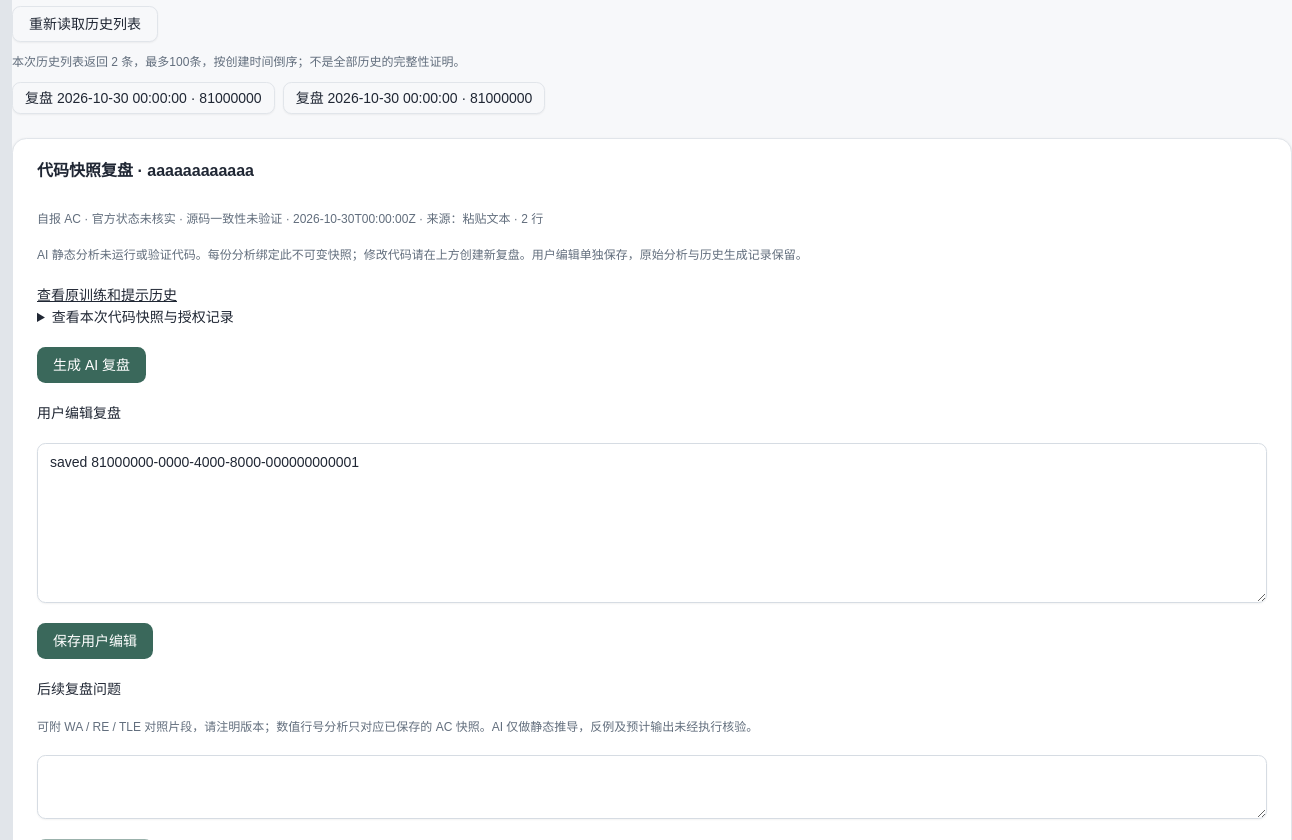
Test: a lost note-save acknowledgement can be verified with GET without replaying PATCH or generating
(page scrolled)
Expected: the button "保存用户编辑" is enabled, [37, 623, 153, 659]
Replace the text in the text box labelled "用户编辑复盘" with "SYNTHETIC keep" at (652, 523), box [37, 443, 1267, 603]
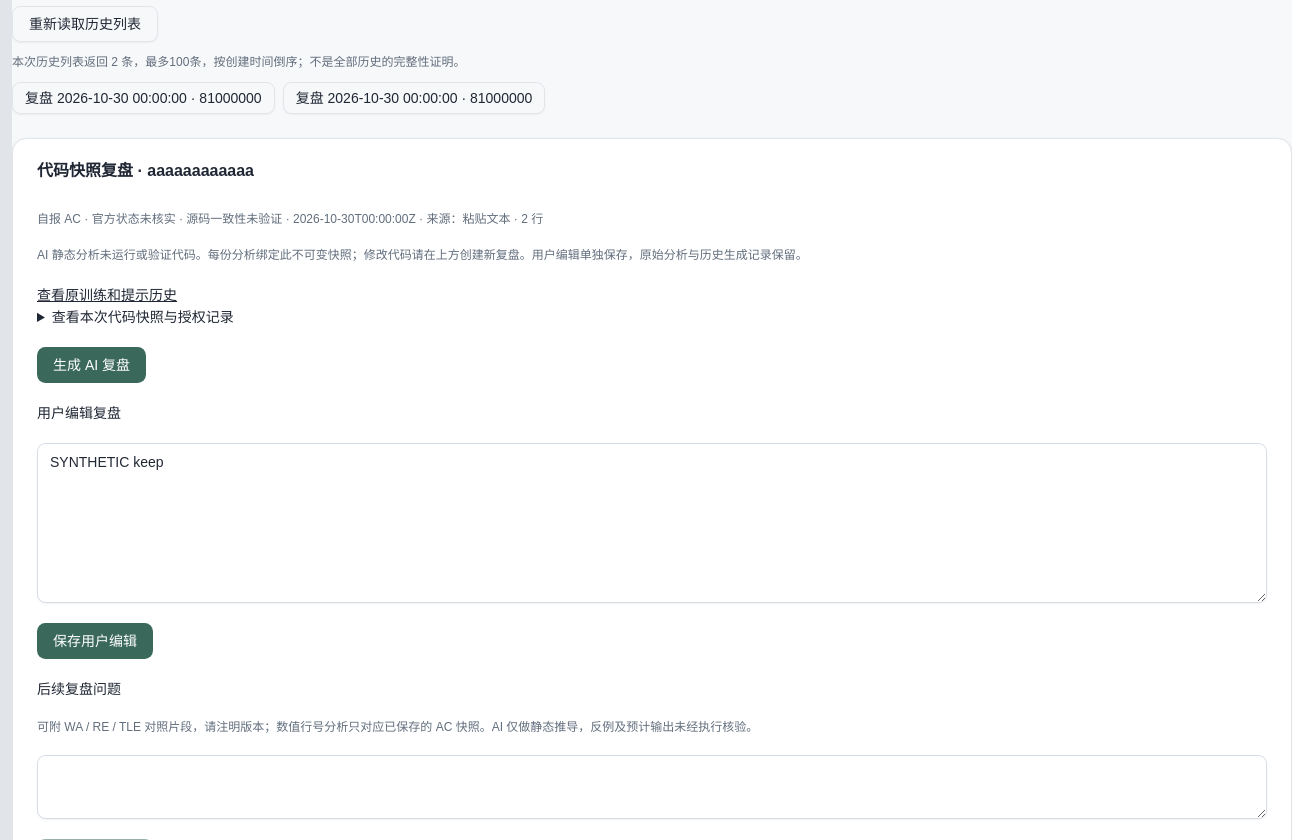
Click the button "保存用户编辑" at (95, 641), box [37, 623, 153, 659]
(page scrolled)
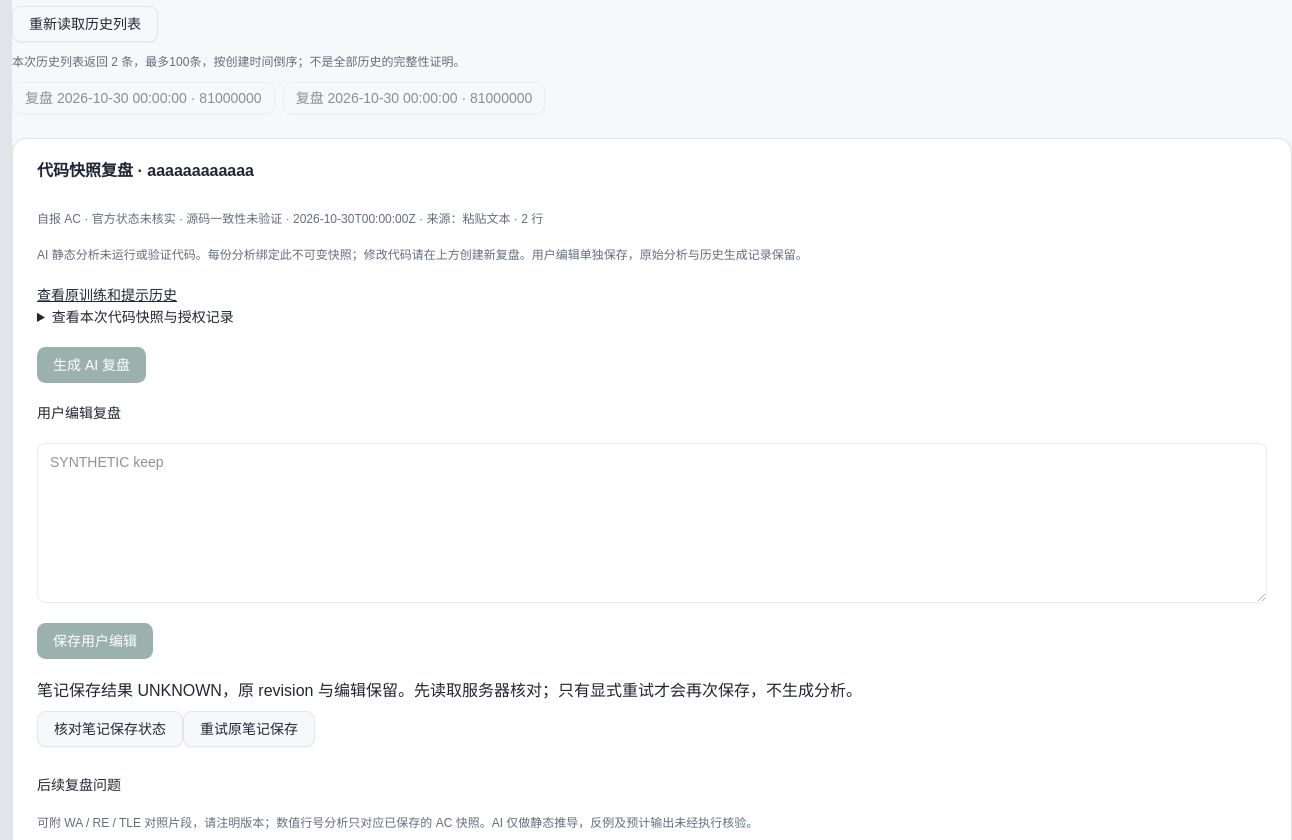
Expected: the text box labelled "用户编辑复盘" is disabled, [37, 443, 1267, 603]
Click the button "核对笔记保存状态" at (110, 729), box [37, 711, 183, 747]
(page scrolled)
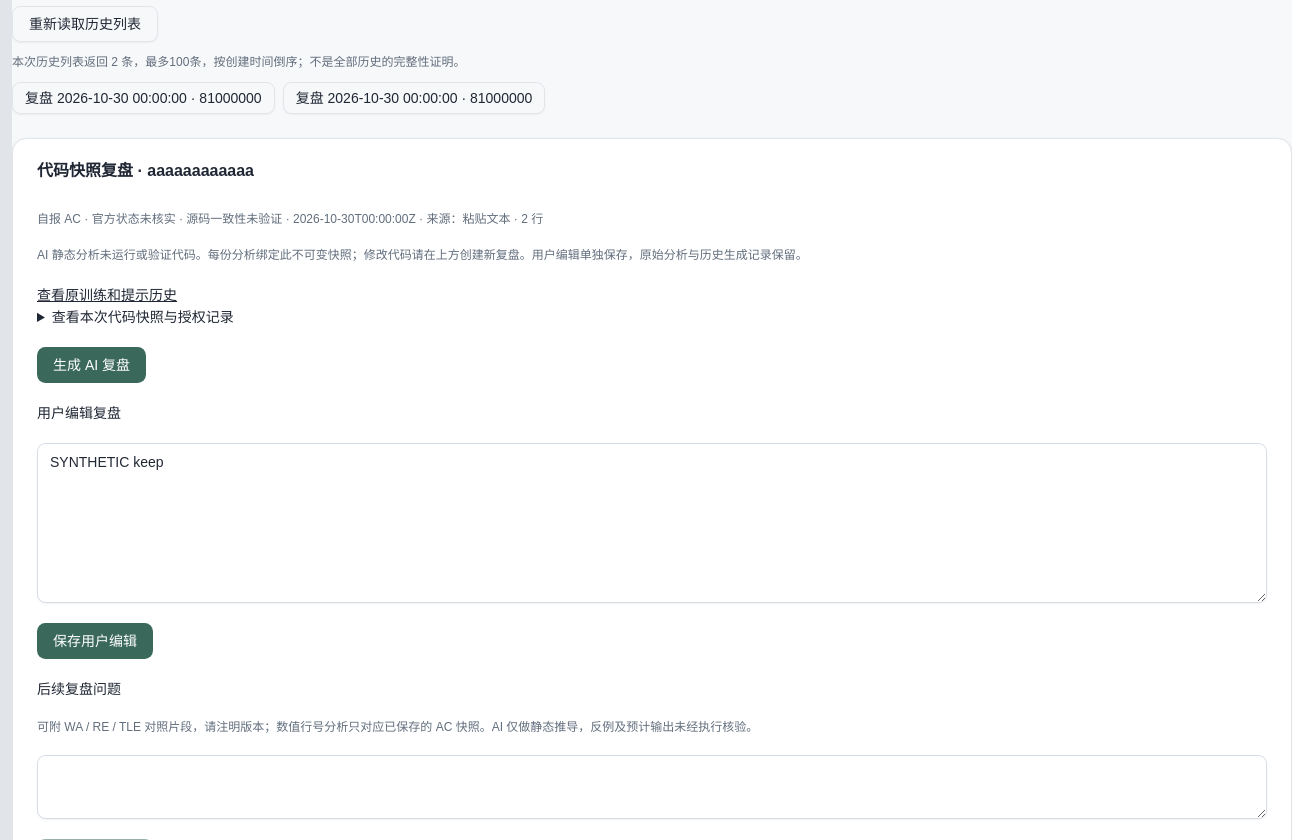
Expected: the text box labelled "用户编辑复盘" holds "SYNTHETIC keep", [37, 443, 1267, 603]
Expected: the text box labelled "用户编辑复盘" is enabled, [37, 443, 1267, 603]
